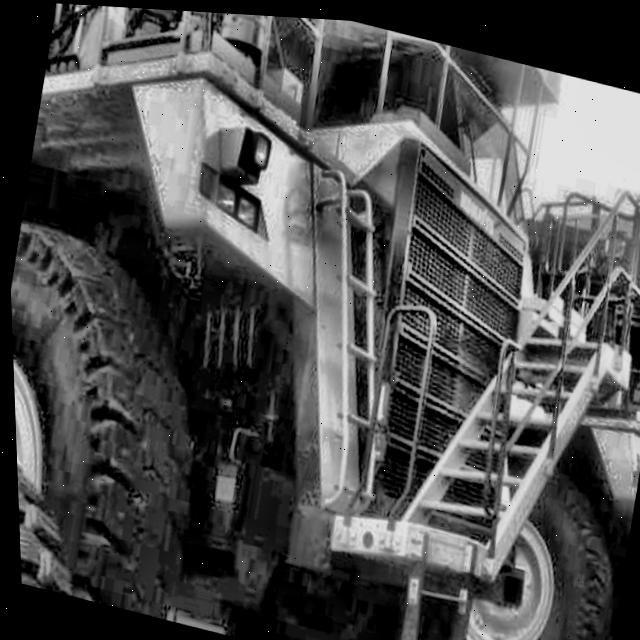dump_truck: (0, 0, 611, 640), (439, 118, 640, 640)
